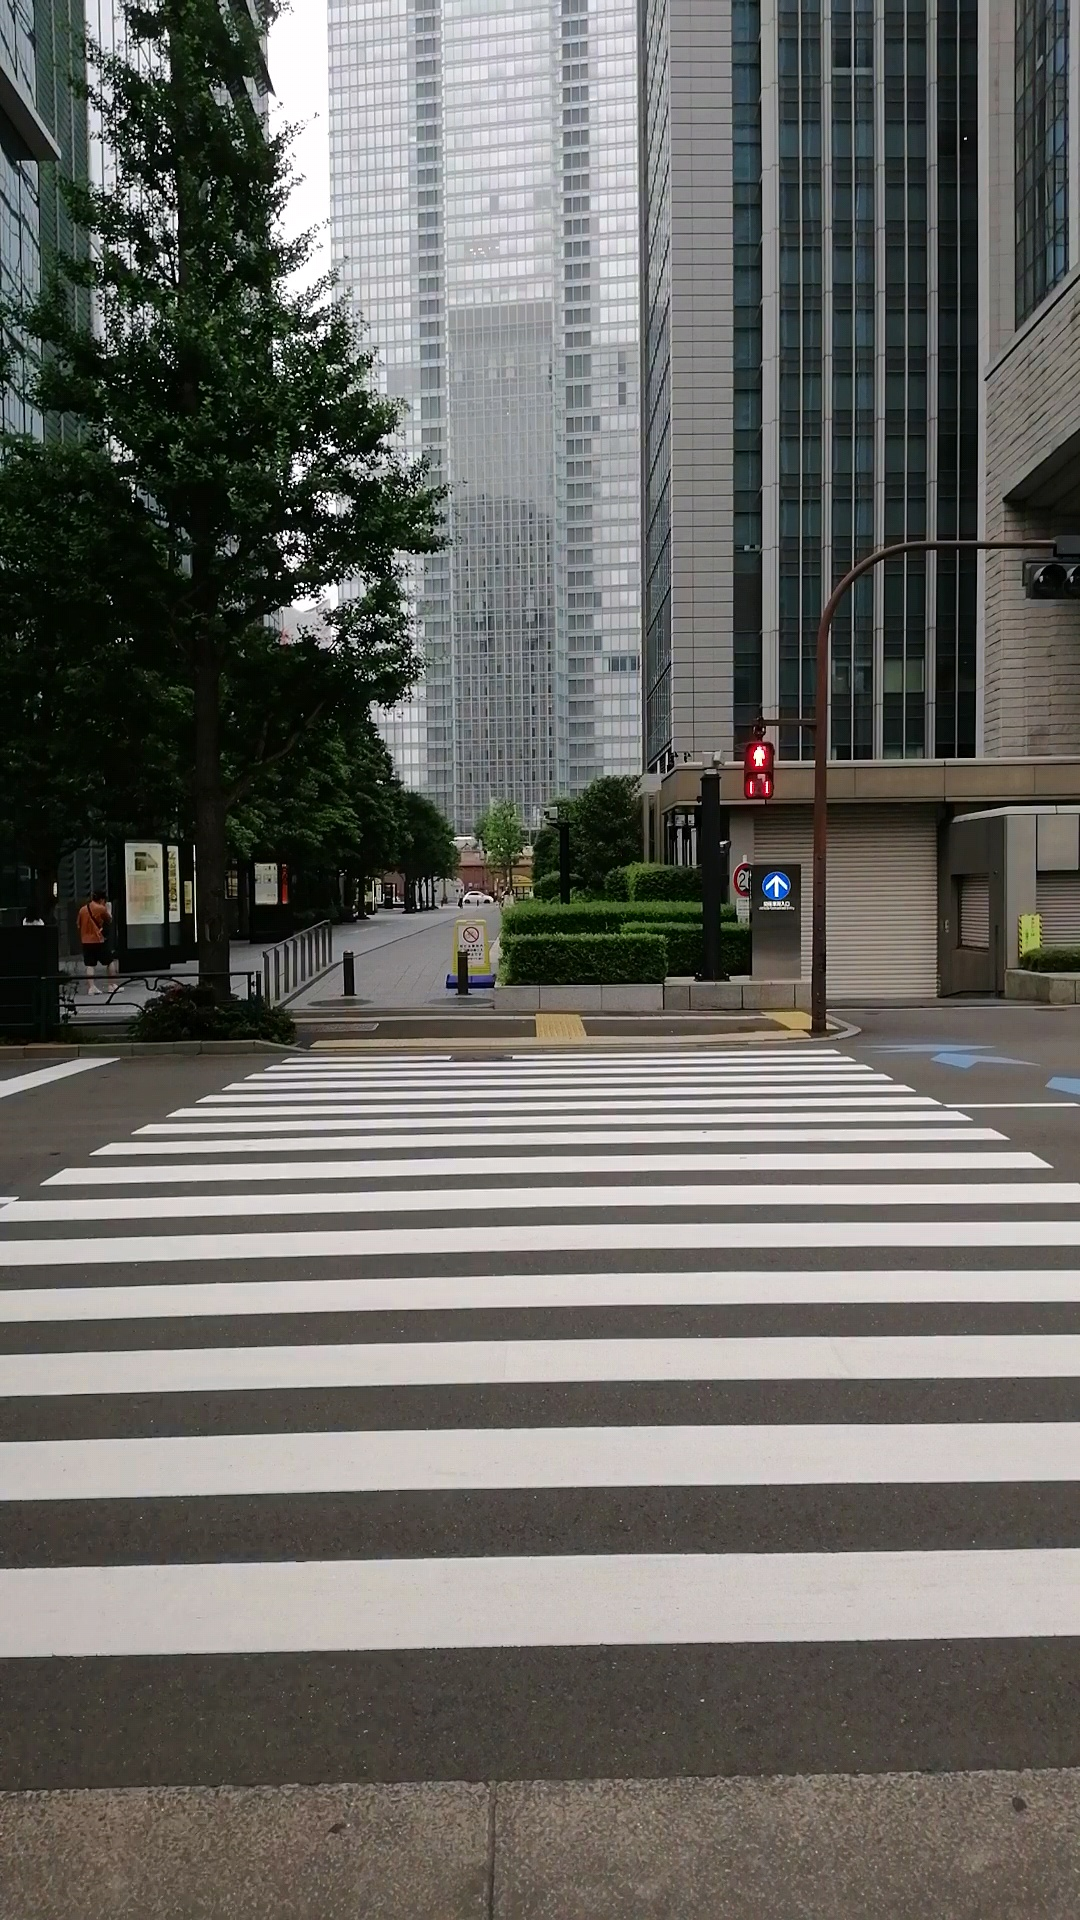red: (742, 738, 775, 800)
